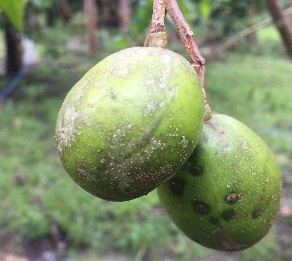Coc: (56, 46, 203, 205), (153, 102, 283, 254)
